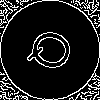Q: (25, 25, 84, 77)
